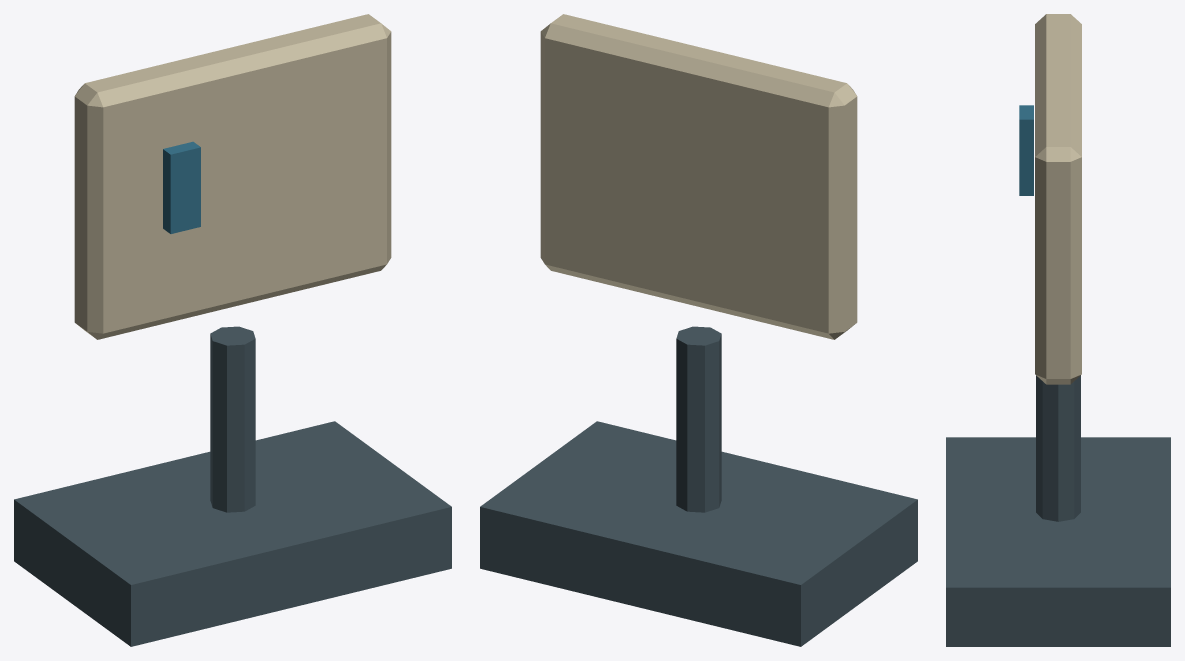
File: set_menu_stand.glb
The picture shows the model from 3 angles, left to right: view 1: azimuth 30°, elevation 25°; view 2: azimuth 150°, elevation 25°; view 3: azimuth 270°, elevation 25°; orthographic projection. The views are drawn at different scales.
Parts seen in each view (by area): view 1: set_menu_stand; view 2: set_menu_stand; view 3: set_menu_stand.
Part boxes in pixels (x1=…): set_menu_stand: x1=14, y1=14, x2=451, y2=646; set_menu_stand: x1=480, y1=14, x2=917, y2=646; set_menu_stand: x1=946, y1=14, x2=1170, y2=646.
Bounding box in the file's own units: 0.19 × 0.2895 × 0.12.
